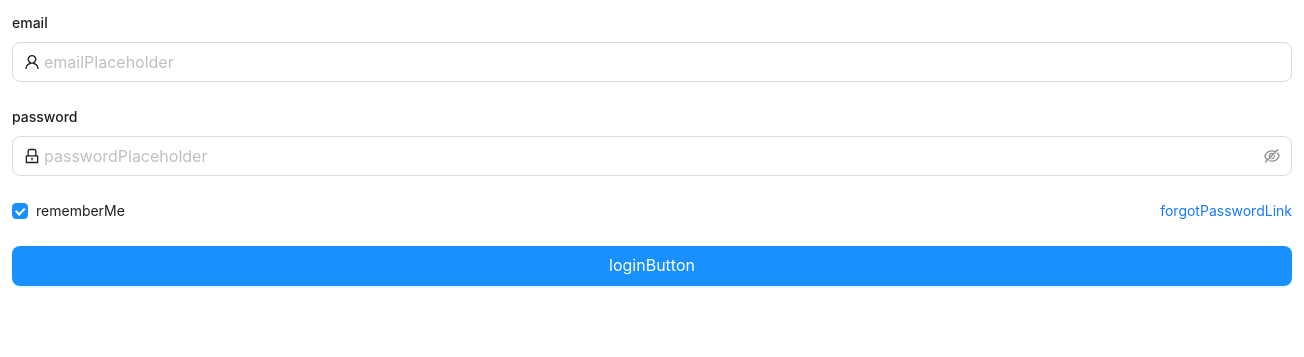
LoginForm › shows validation errors for empty fields
Click the button "loginButton": (652, 266) [12,246,1292,286]
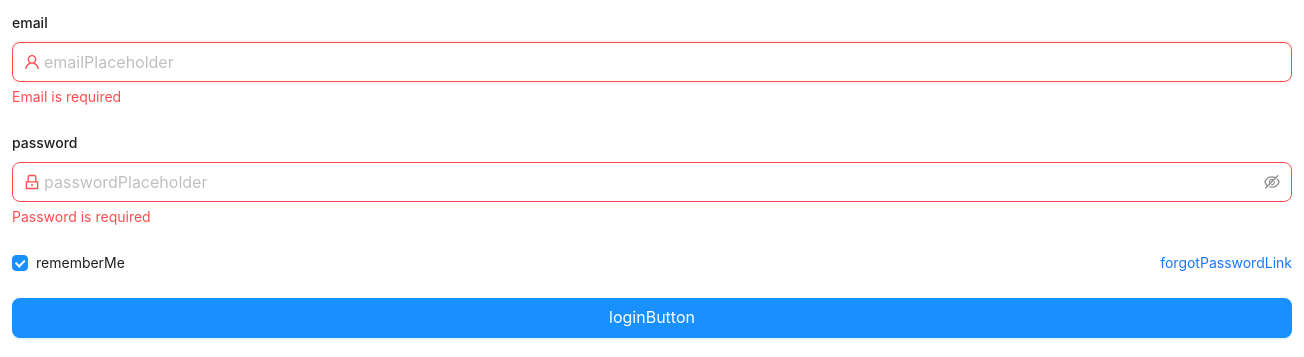
Expected: the text "Email is required" is shown, [12,88,121,105]
